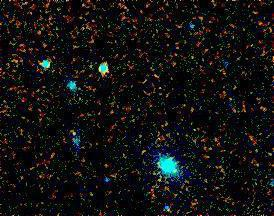star: (53, 117, 83, 147)
